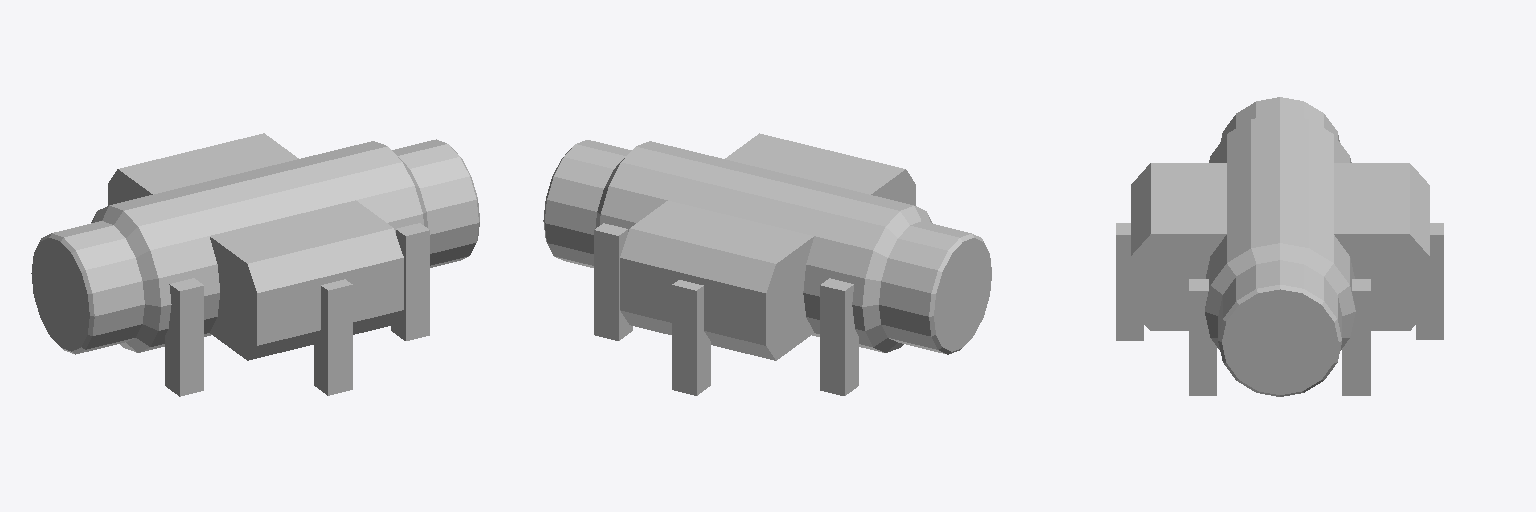
The model's file is EngeneringOutMesh.obj.
The picture shows the model from 3 angles: view 1: azimuth 30°, elevation 25°; view 2: azimuth 150°, elevation 25°; view 3: azimuth 270°, elevation 25°; orthographic projection.
Parts seen in each view (by area): view 1: Cylinder.044; view 2: Cylinder.044; view 3: Cylinder.044.
Boxes of the visible parts, <box> form: Cylinder.044: <box>31,133,479,396</box>; Cylinder.044: <box>543,133,991,395</box>; Cylinder.044: <box>1116,97,1443,396</box>.
Size of the model in its own units: 7.76 by 2.94 by 5.65.